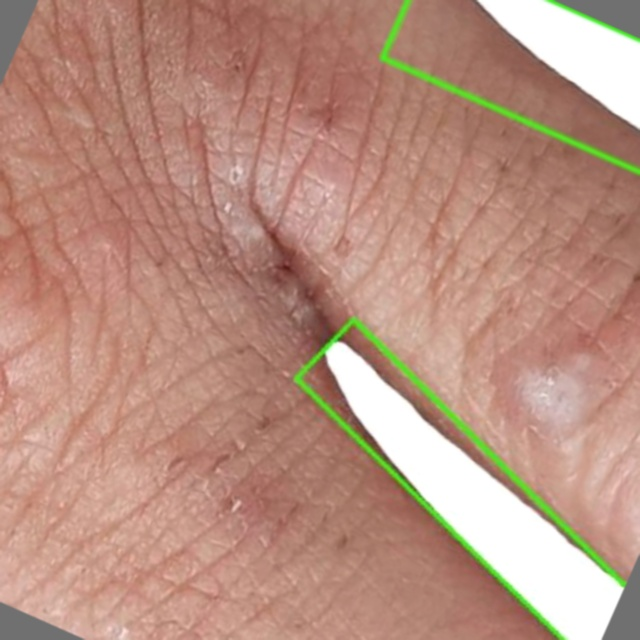Scabies: (294, 318, 620, 639)
